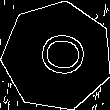O_W: (28, 31, 86, 81)
